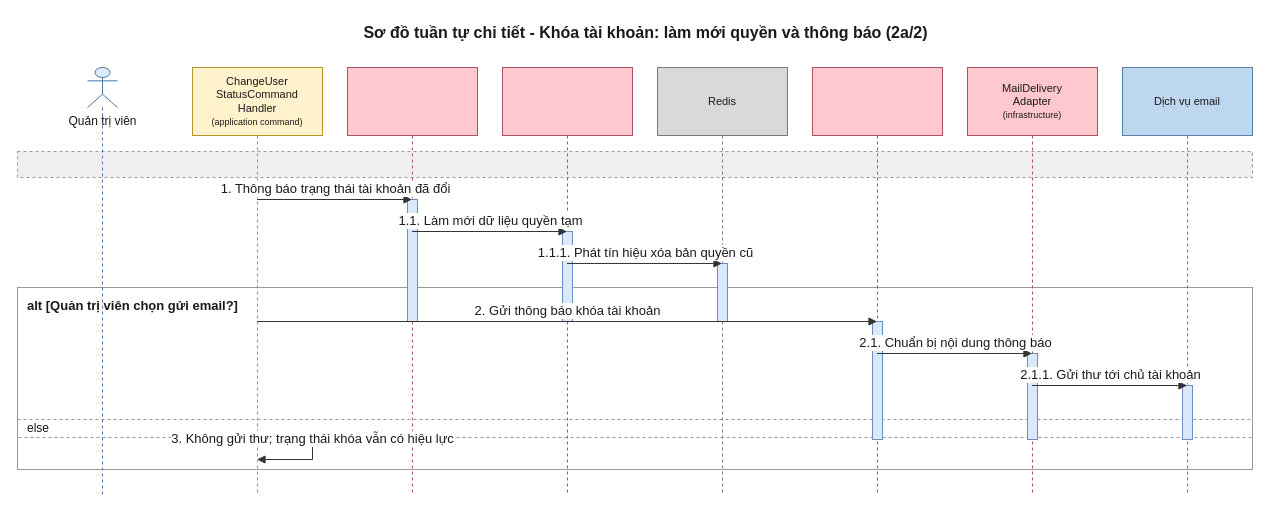
The diagram is 1270 pixels wide and 513 high, and some of its shapes have lost their labels. The box of each missing label's shape, as (x1, y1, x2, y2) in pixels:
Giai đoạn 2 - Làm mới quyền sau khi khóa: (16, 150, 1252, 178)
MailDelivery Port (output port): (812, 66, 942, 496)
PermissionCache Port (output port): (346, 66, 478, 496)
RedisPermission Adapter (infrastructure): (502, 66, 632, 496)
